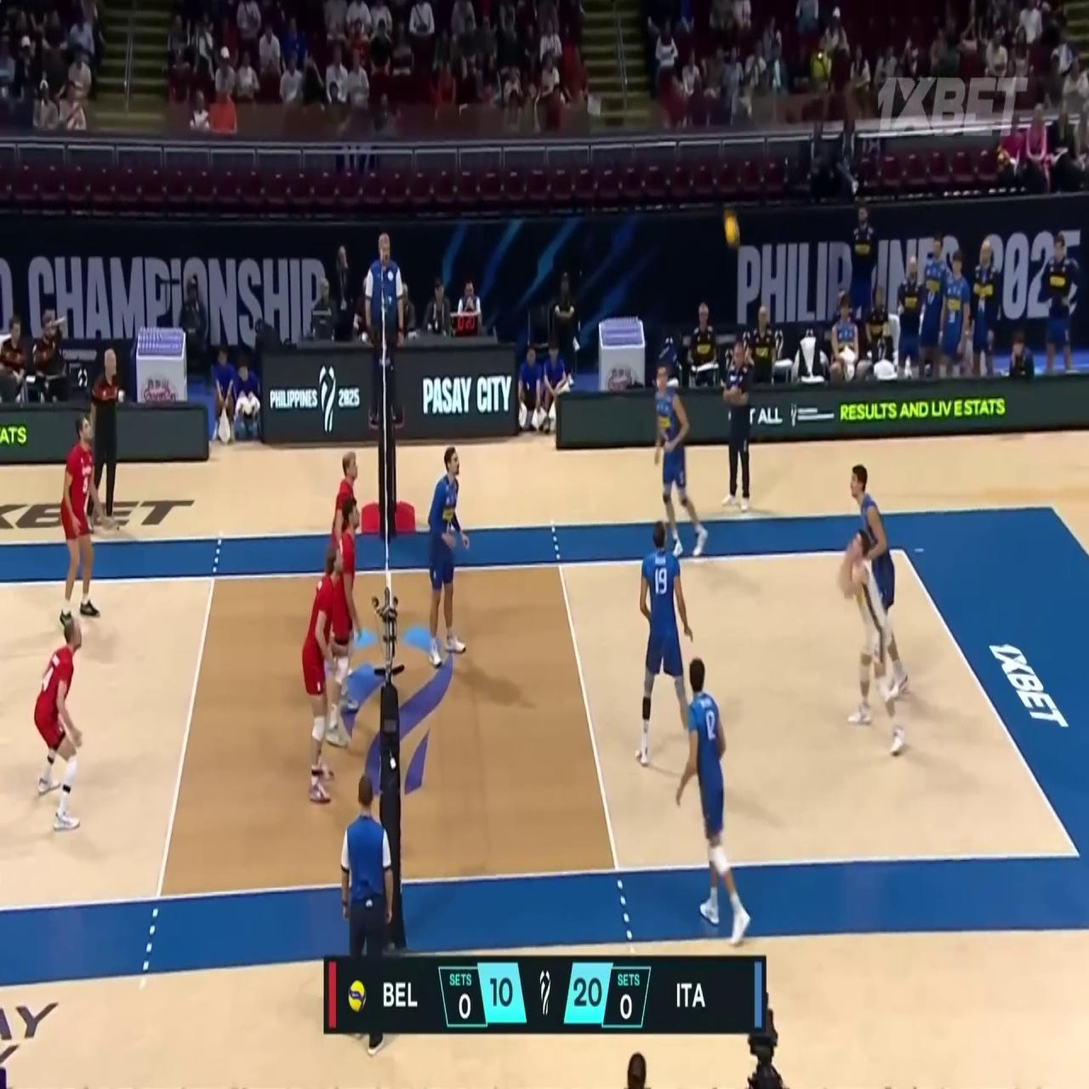ball: (724, 215, 740, 247)
